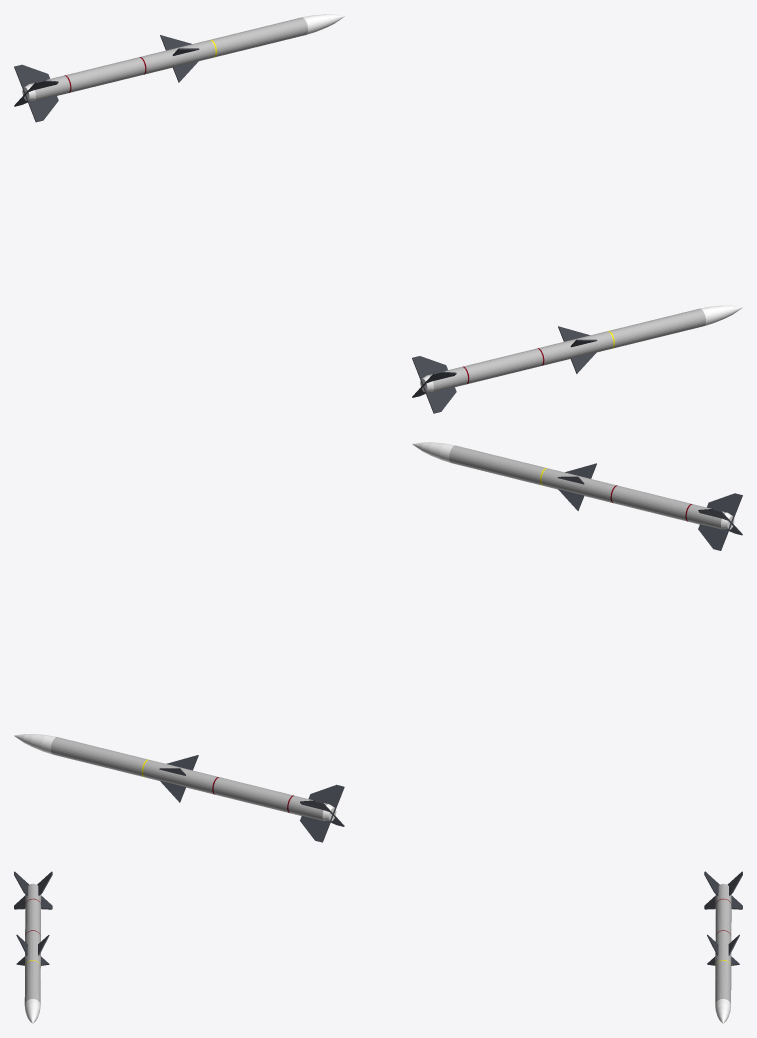
File: aim120fa18e291.glb
3 renders of one model, top to bottom at view 1: azimuth 30°, elevation 25°; view 2: azimuth 150°, elevation 25°; view 3: azimuth 270°, elevation 25°, orthographic. The views are drawn at different scales.
Parts seen in each view (by area): view 1: 円柱.003, 円柱.002; view 2: 円柱.002, 円柱.003; view 3: 円柱.003, 円柱.002.
Part boxes in pixels (x1,y1,x2,y2): 円柱.003: [14, 14, 344, 122]; 円柱.002: [412, 305, 742, 413]; 円柱.002: [412, 442, 742, 550]; 円柱.003: [14, 734, 344, 842]; 円柱.003: [704, 871, 742, 1023]; 円柱.002: [14, 871, 52, 1023].
Bounding box in the file's own units: 4.39 × 0.5295 × 9.99.
4 materials, 4 textured.
